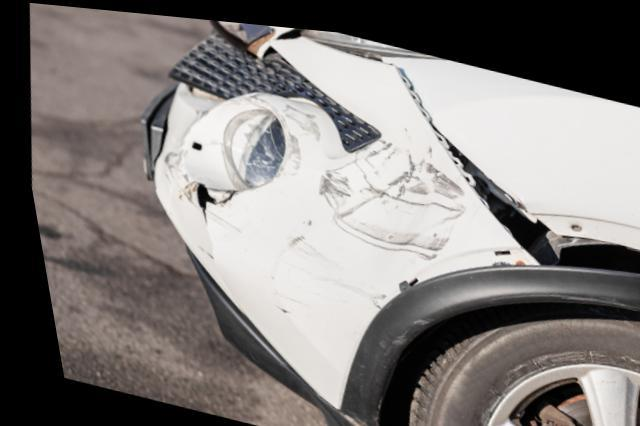crack: (191, 181, 232, 225)
dislocated part: (149, 30, 640, 406)
scratch: (315, 137, 460, 250), (278, 91, 316, 178)
